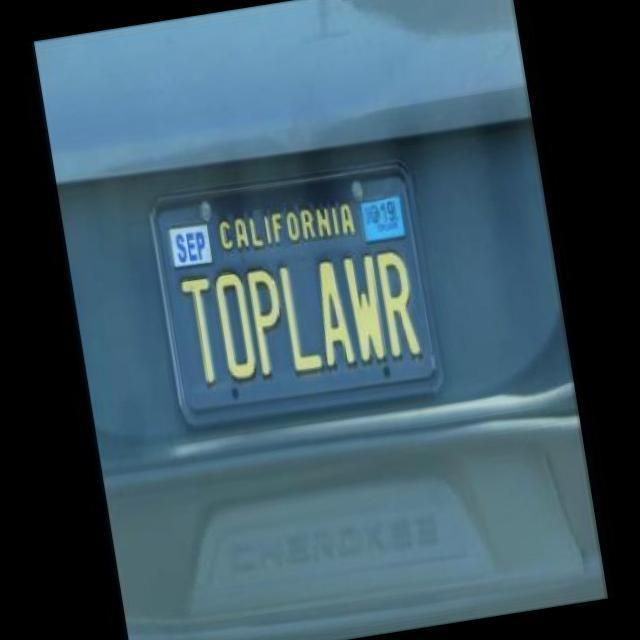License Plate: (145, 153, 451, 435)
